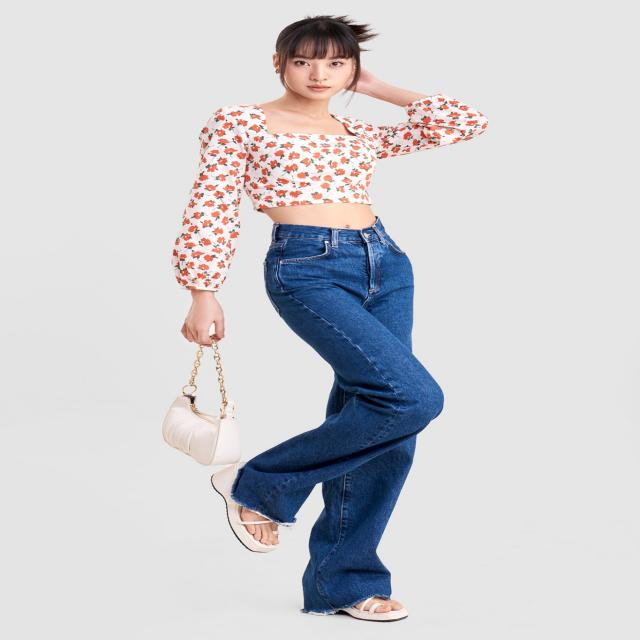clothes: (177, 90, 491, 612)
